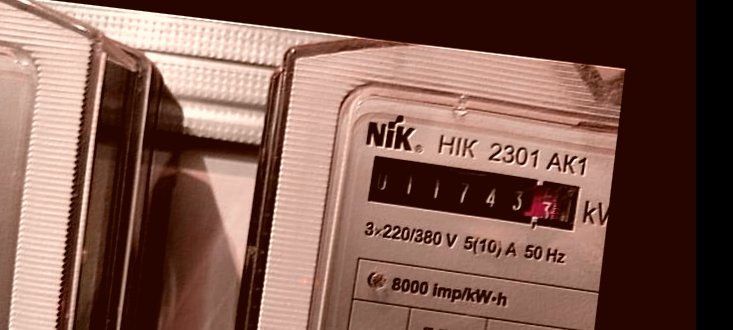0: (374, 165, 391, 193)
1: (401, 168, 418, 197), (429, 172, 445, 202)
3: (509, 186, 526, 214), (537, 199, 554, 222)
4: (483, 184, 500, 210)
7: (455, 178, 472, 205)
screen: (359, 149, 591, 240)
